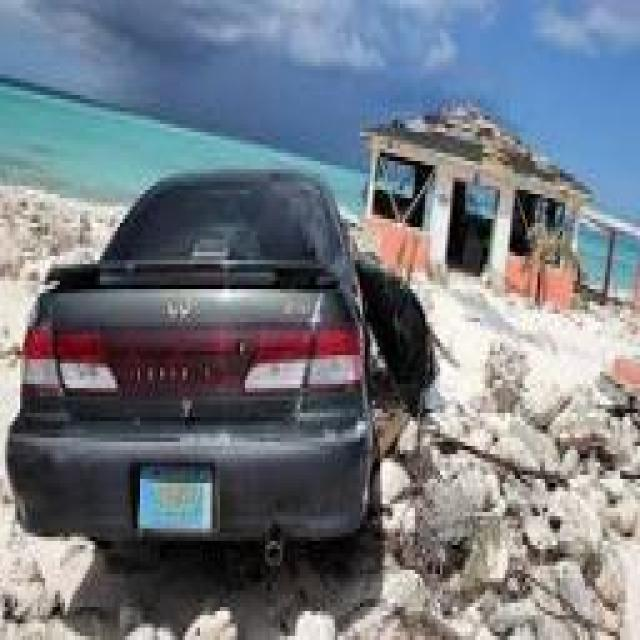Bumper: (18, 425, 370, 566)
